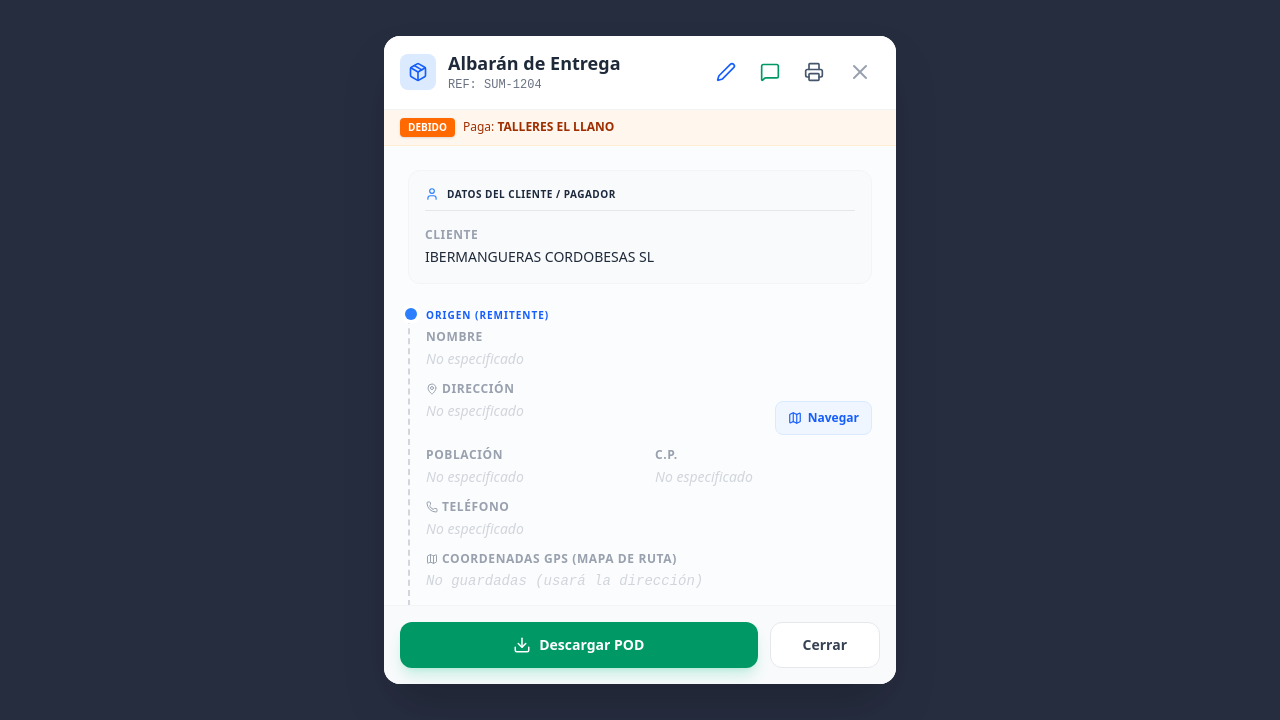
Test: ShipmentDetailsModal: controles de administración a la vista › en la oficina se ven bloqueados y el lápiz los desbloquea
Click the button titled "Editar".
click(726, 72)  # box [708, 54, 744, 90]
(page scrolled)
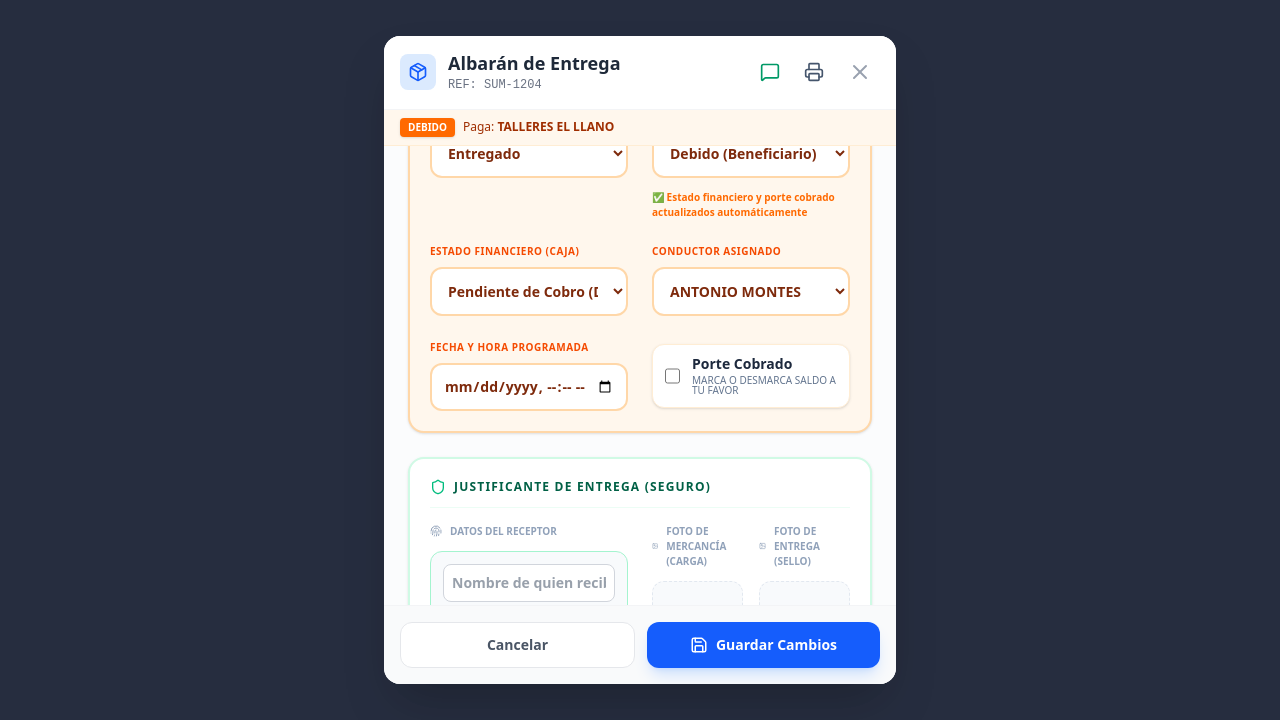
Now the checkbox labelled "Porte Cobrado Marca o desmarca saldo a tu favor" is enabled, box [665, 366, 680, 386]
